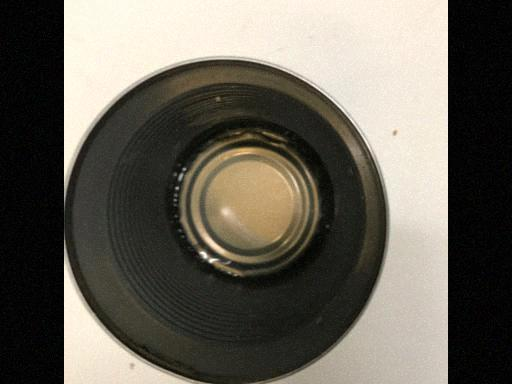metal: (69, 58, 392, 384)
